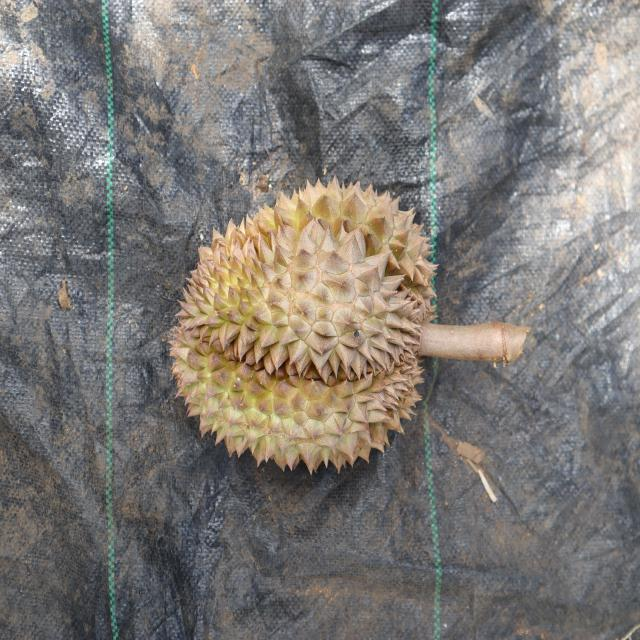mature: (165, 175, 439, 479)
